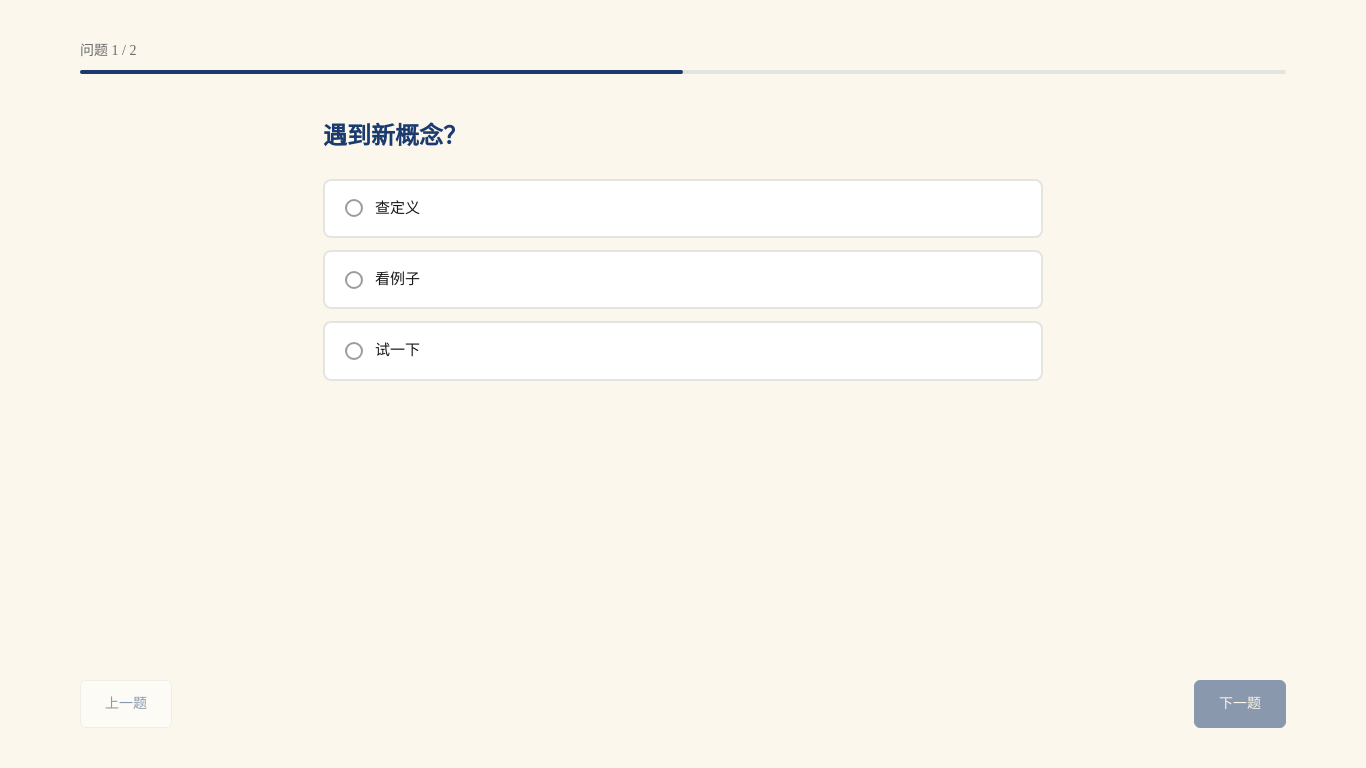
Test: Onboarding › 选 single 选项 → 下一题可点
This screenshot has width=1366, height=768.
Click the text "查定义".
click(398, 208)  # box [375,197,420,220]
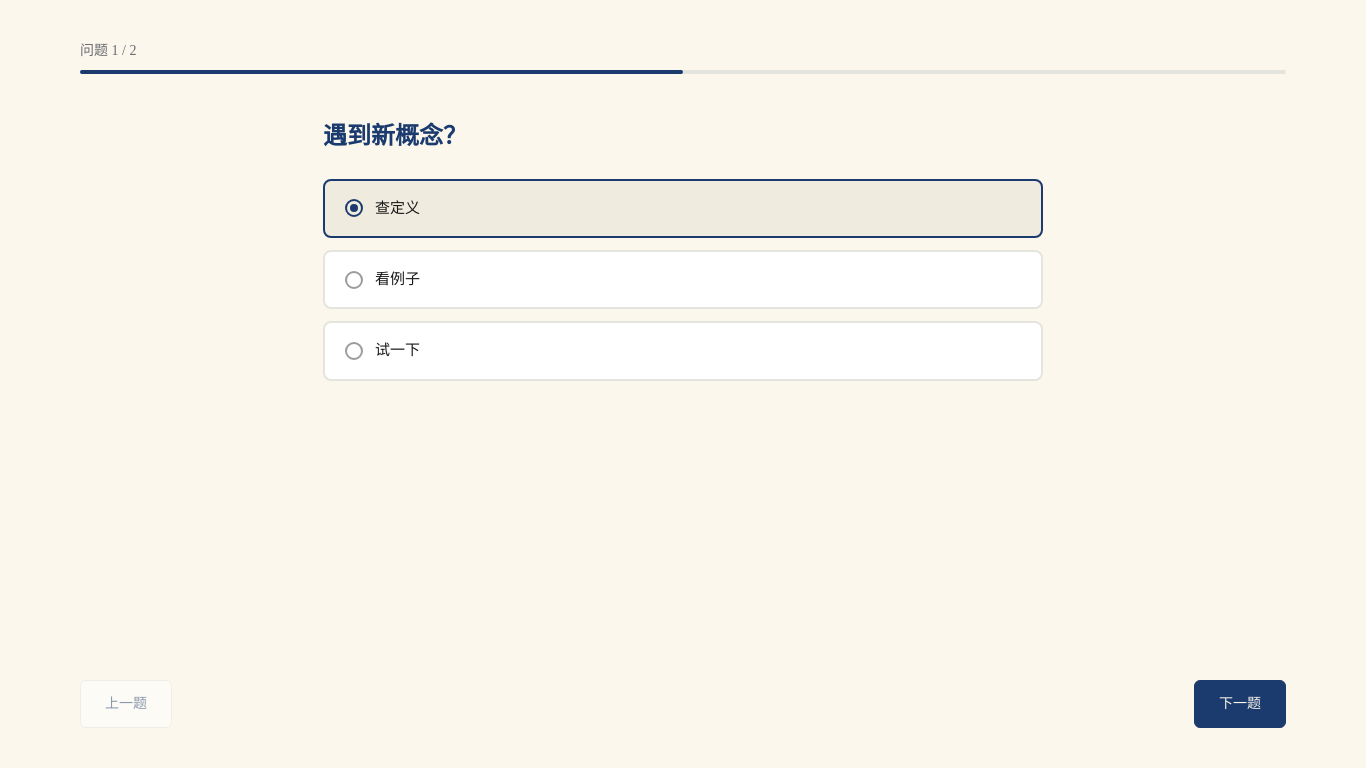
Expected: the button "下一题" is enabled, [1194,680,1286,728]
